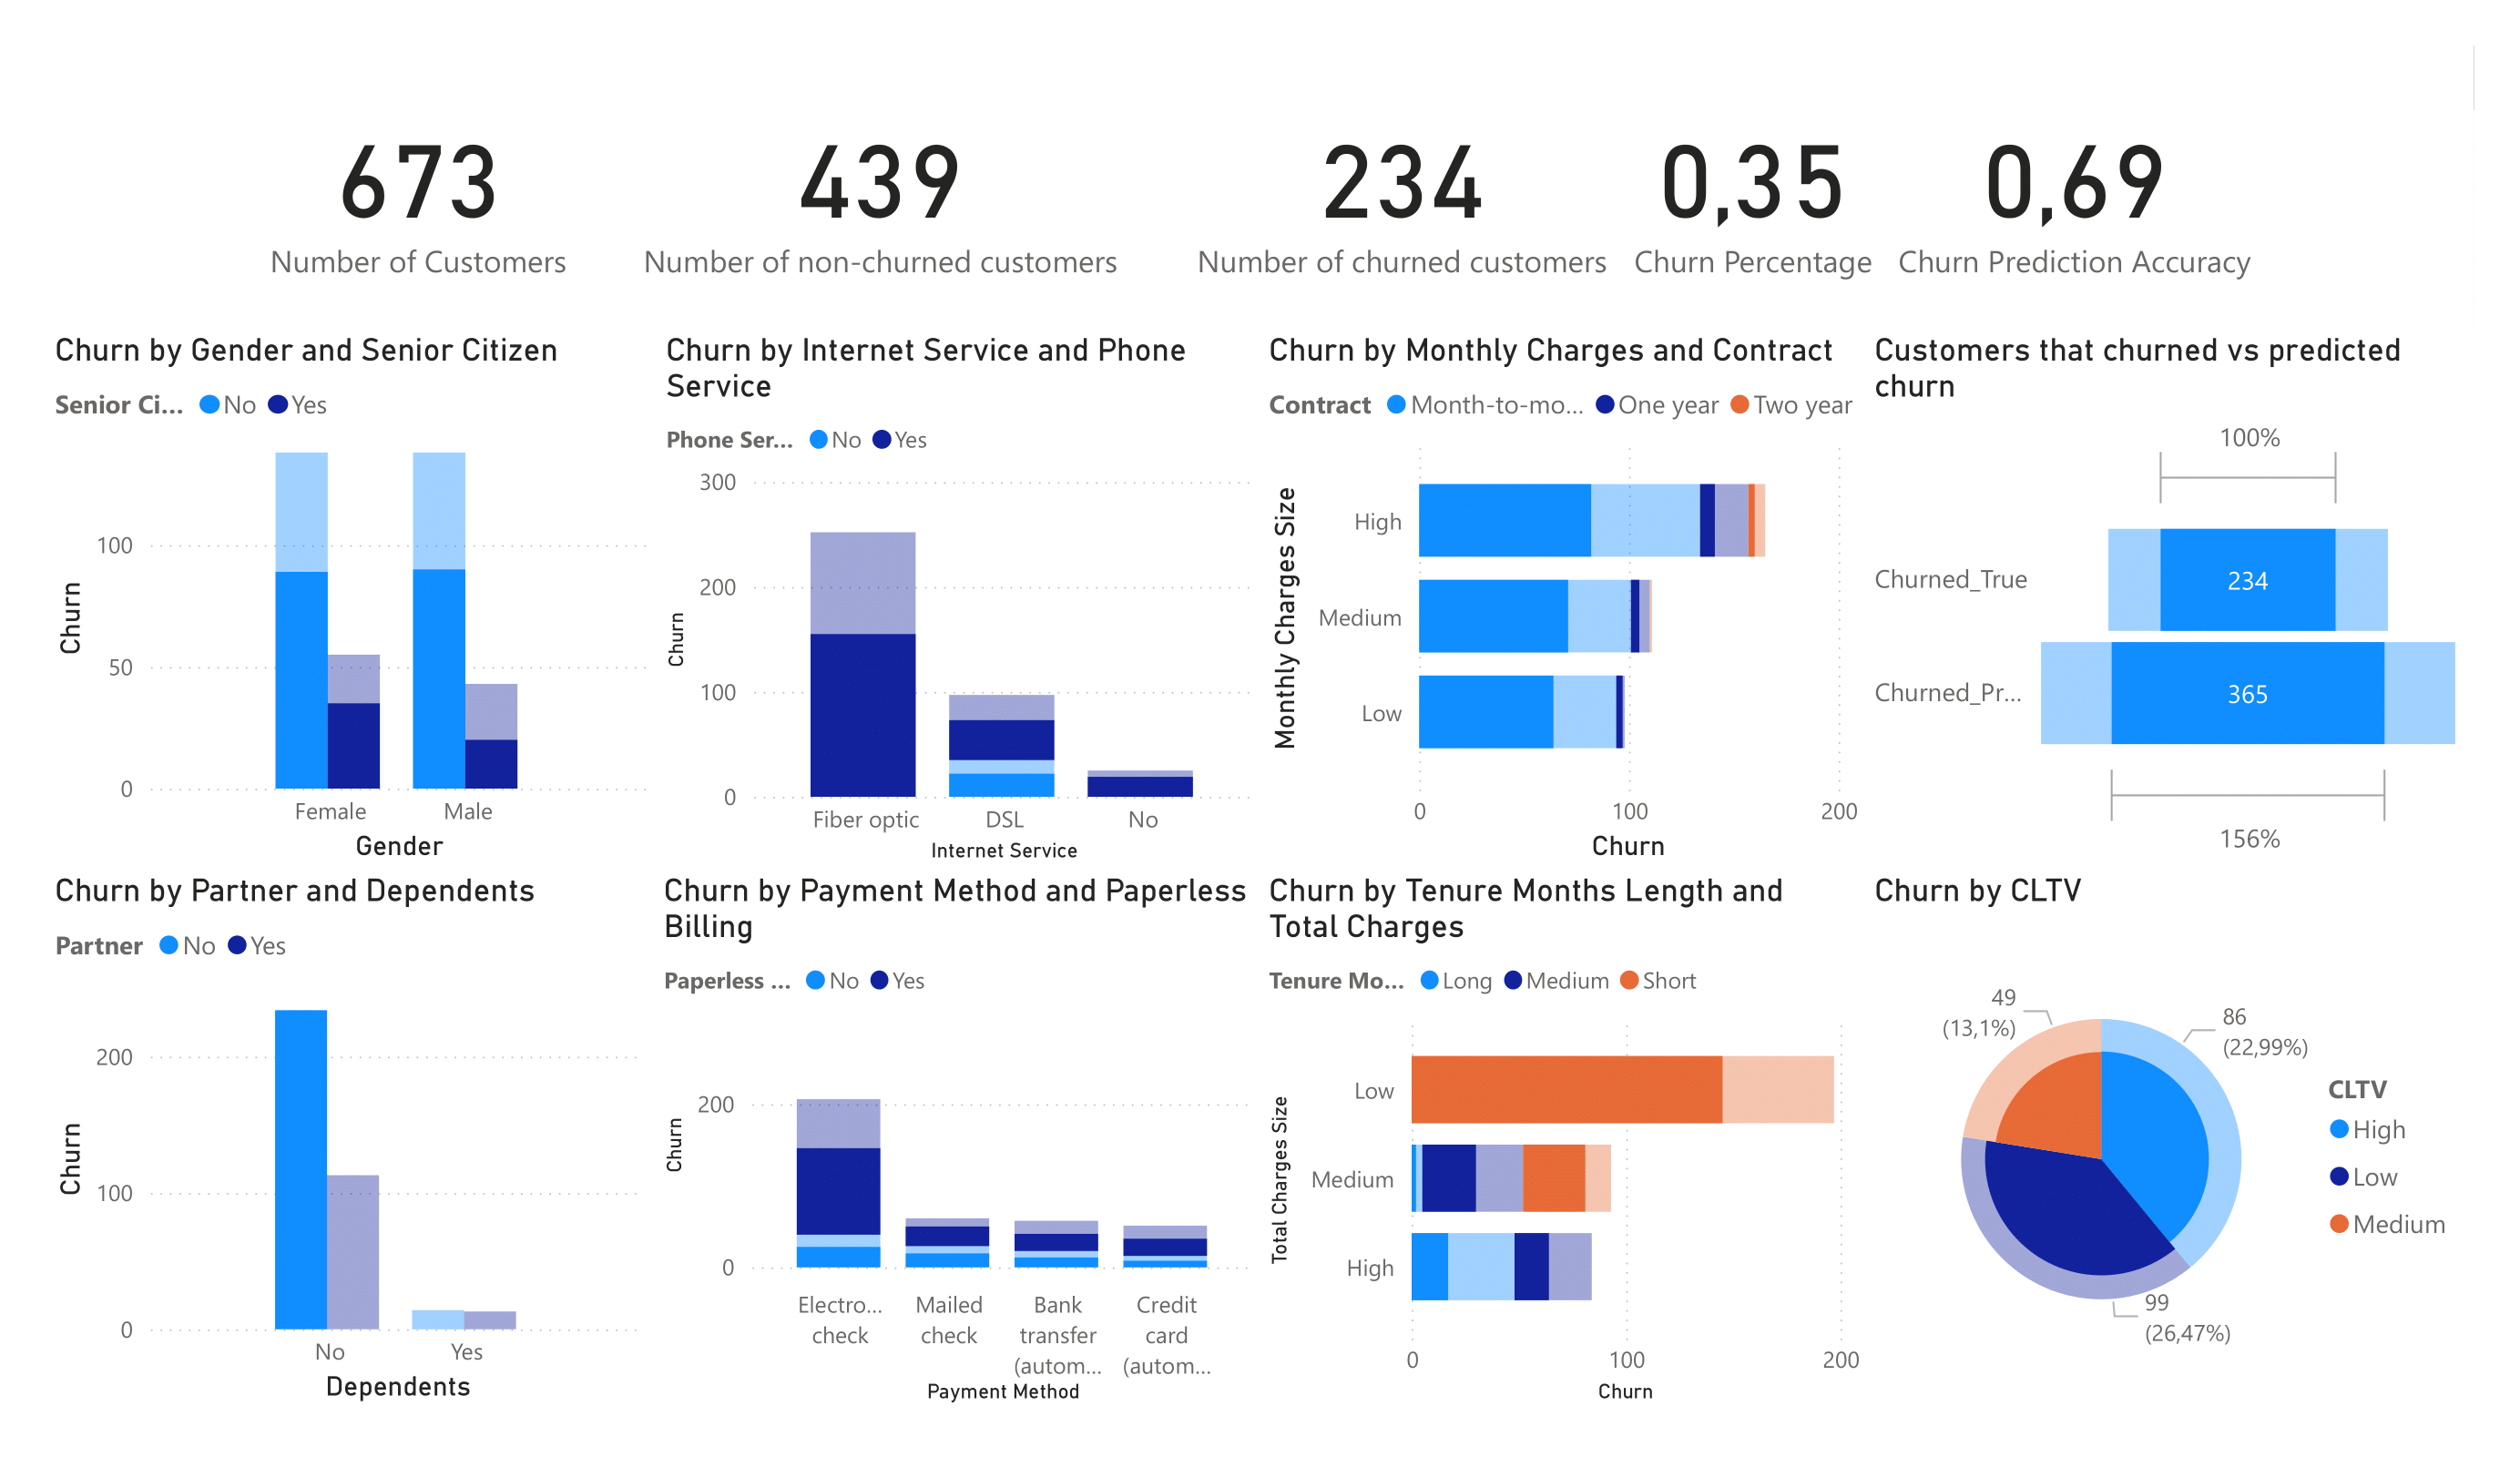

This screenshot's page, from the dashboard's own definition file:
{"tool":"powerbi","page":{"name":"Side 1","canvas":[1280,720],"ordinal":0},"visuals":[{"type":"card","fields":{"Values":["Avg(Forespørgsel1.y_true)"]},"box":[829.7,0,140.1,149.8],"z":0},{"type":"pieChart","title":"Churn by CLTV","fields":{"Y":["Sum(Attributes.y_true)"],"Category":["Attributes.CLTV Size"]},"box":[959,434.8,321,285],"z":1000},{"type":"card","fields":{"Values":["Attributes.Churn Prediction Accuracy"]},"box":[969.7,0,199.4,149.8],"z":2000},{"type":"barChart","title":"Churn by Tenure Months Length and Total Charges","fields":{"Category":["Attributes.Total Charges Size"],"Series":["Attributes.Tenure Months Length"],"Y":["Sum(Attributes.y_true)"]},"box":[640,434.8,321,285],"z":3000},{"type":"barChart","title":"Churn by Monthly Charges and Contract","fields":{"Category":["Attributes.Monthly Charges Size"],"Y":["Sum(Attributes.y_true)"],"Series":["Attributes.Contract"]},"box":[640,149.8,320,285],"z":4000},{"type":"columnChart","title":"Churn by Payment Method and Paperless Billing","fields":{"Category":["Attributes.Payment Method"],"Y":["Sum(Attributes.y_true)"],"Series":["Attributes.Paperless Billing"]},"box":[321,434.8,321,285],"z":5000},{"type":"columnChart","title":"Churn by Internet Service and Phone Service","fields":{"Category":["Attributes.Internet Service"],"Y":["Sum(Attributes.y_true)"],"Series":["Attributes.Phone Service"]},"box":[321.9,149.8,320,285],"z":6000},{"type":"clusteredColumnChart","title":"Churn by Partner and Dependents","fields":{"Category":["Attributes.Dependents"],"Series":["Attributes.Partner"],"Y":["Sum(Attributes.y_true)"]},"box":[0,434.8,321,285],"z":7000},{"type":"clusteredColumnChart","title":"Churn by Gender and Senior Citizen","fields":{"Category":["Attributes.Gender"],"Series":["Attributes.Senior Citizen"],"Y":["Sum(Attributes.y_true)"]},"box":[0,149.8,321.9,285],"z":8000},{"type":"funnel","title":"Customers that churned vs predicted churn","fields":{"Y":["Sum(Attributes.y_true)","Sum(Attributes.y_pred)"]},"box":[959,149.8,321,285],"z":9000},{"type":"card","fields":{"Values":["CountNonNull(Attributes.y_true)"]},"box":[110.9,0,171.2,149.8],"z":10000},{"type":"card","fields":{"Values":["CountNonNull(Attributes.y_true)"]},"box":[600.1,0,229.5,149.8],"z":11000},{"type":"card","fields":{"Values":["CountNonNull(Attributes.y_true)"]},"box":[280.1,0,320,149.8],"z":12000}]}

Visuals, with their boxes in screenshot pixels (x1, y1, x2, y2):
card - Avg(Forespørgsel1.y_true): bbox(1757, 66, 2020, 346)
"Churn by CLTV" pieChart: bbox(1999, 880, 2519, 1413)
card - Attributes.Churn Prediction Accuracy: bbox(2019, 66, 2392, 346)
"Churn by Tenure Months Length and Total Charges" barChart: bbox(1402, 880, 2003, 1413)
"Churn by Monthly Charges and Contract" barChart: bbox(1402, 346, 2001, 880)
"Churn by Payment Method and Paperless Billing" columnChart: bbox(804, 880, 1405, 1413)
"Churn by Internet Service and Phone Service" columnChart: bbox(806, 346, 1405, 880)
"Churn by Partner and Dependents" clusteredColumnChart: bbox(203, 880, 804, 1413)
"Churn by Gender and Senior Citizen" clusteredColumnChart: bbox(203, 346, 806, 880)
"Customers that churned vs predicted churn" funnel: bbox(1999, 346, 2519, 880)
card - CountNonNull(Attributes.y_true): bbox(411, 66, 731, 346)
card - CountNonNull(Attributes.y_true): bbox(1327, 66, 1757, 346)
card - CountNonNull(Attributes.y_true): bbox(728, 66, 1327, 346)
